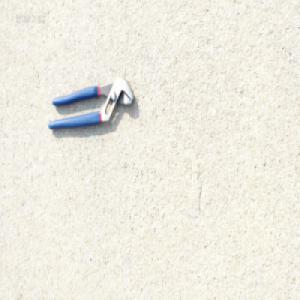Pliers: (46, 75, 134, 132)
